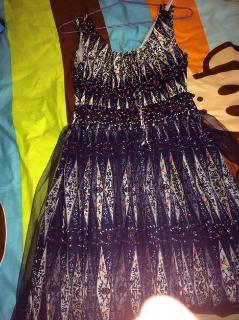vest: (10, 4, 239, 319)
